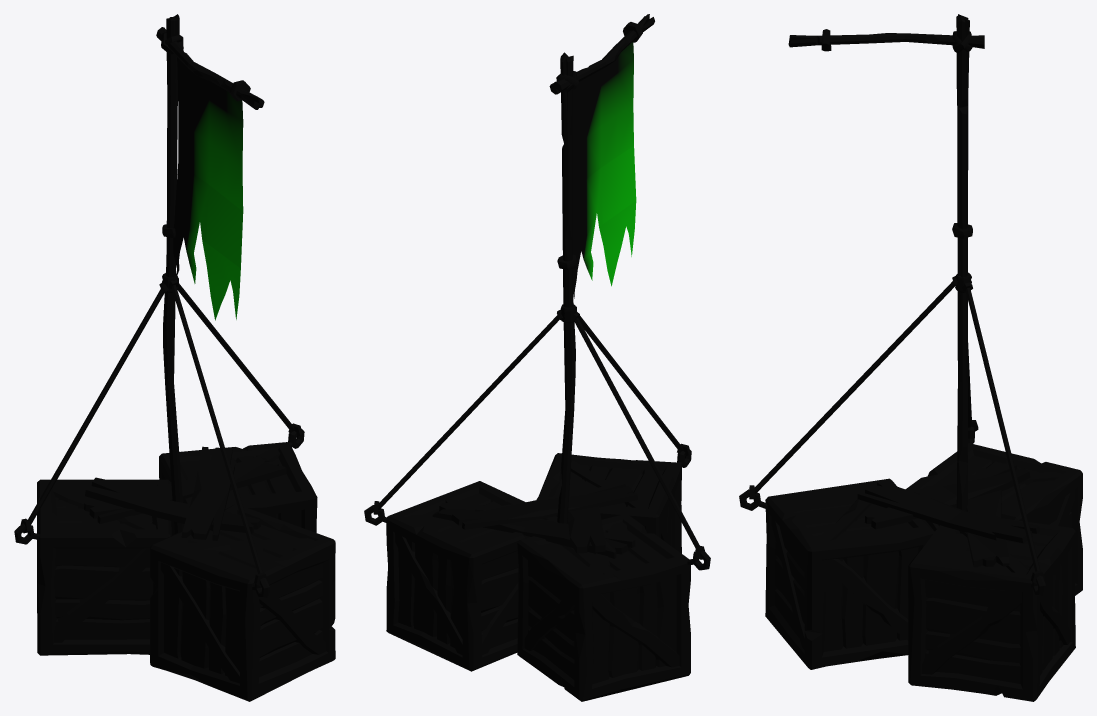
File: SM_Prop_PirateFlag_01.glb
3 renders of one model, left to right at view 1: azimuth 30°, elevation 25°; view 2: azimuth 150°, elevation 25°; view 3: azimuth 270°, elevation 25°, orthographic. The views are drawn at different scales.
Visible parts, largest first — view 1: SM_Prop_PirateFlag_01; view 2: SM_Prop_PirateFlag_01; view 3: SM_Prop_PirateFlag_01.
Part boxes in pixels (<box>): SM_Prop_PirateFlag_01: <box>14,14,335,701</box>; SM_Prop_PirateFlag_01: <box>364,14,710,701</box>; SM_Prop_PirateFlag_01: <box>739,14,1082,701</box>.
Size of the model in its own units: 2.99 by 5.41 by 2.73.
